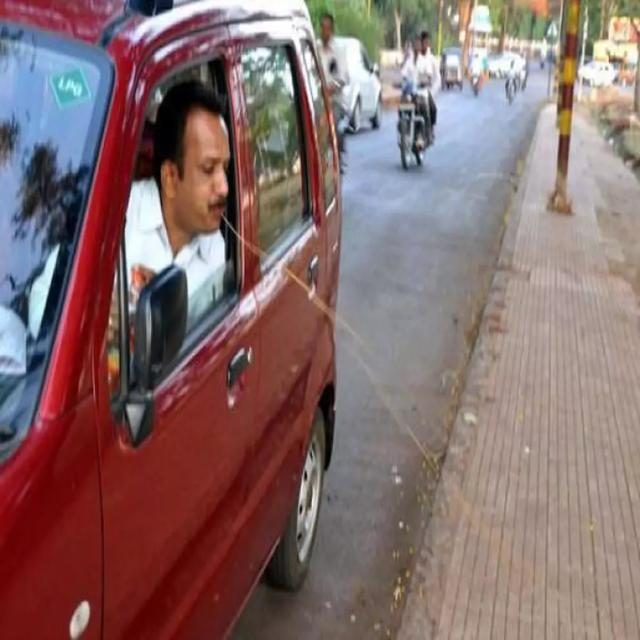Spitting: (147, 83, 260, 326)
